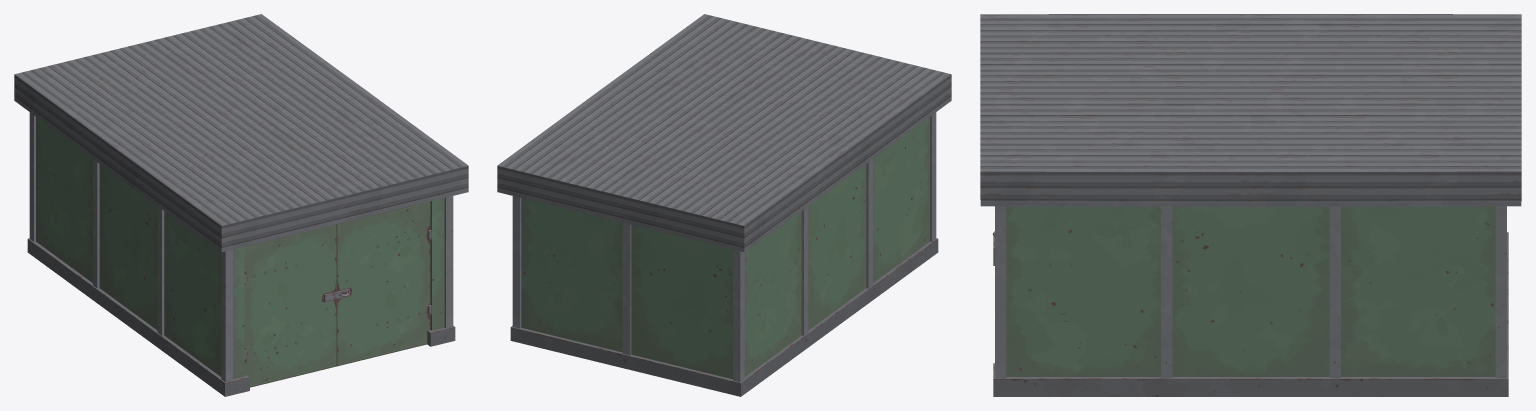
Rendered from Garage1.fbx.
3 views of the same model, side by side, from view 1: azimuth 30°, elevation 25°; view 2: azimuth 150°, elevation 25°; view 3: azimuth 270°, elevation 25° (orthographic). The views are drawn at different scales.
Visible parts, largest first — view 1: polySurface1287; view 2: polySurface1287; view 3: polySurface1287.
Boxes of the visible parts, x1=… form: polySurface1287: x1=14, y1=14, x2=468, y2=396; polySurface1287: x1=497, y1=14, x2=951, y2=396; polySurface1287: x1=980, y1=14, x2=1521, y2=396.
Size of the model in its own units: 316 by 214 by 455.
